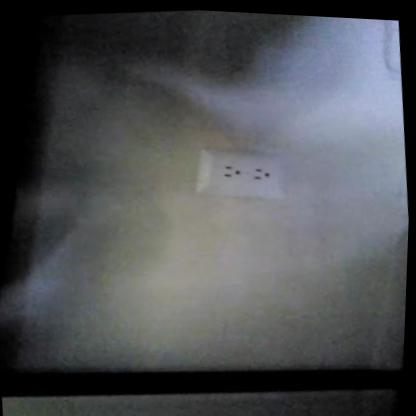OUTLET: (187, 139, 294, 208)
